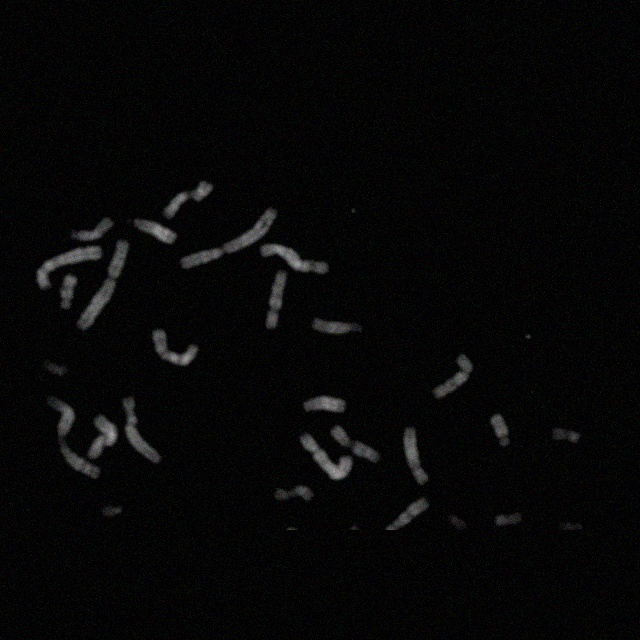chromosome: (180, 210, 280, 272), (41, 394, 101, 484), (76, 241, 130, 329), (36, 243, 100, 289), (124, 395, 164, 465), (300, 429, 352, 481), (162, 179, 218, 223), (260, 244, 330, 276), (330, 426, 380, 466), (150, 328, 200, 366), (430, 355, 472, 399), (88, 415, 120, 461), (402, 425, 426, 485), (133, 215, 179, 245), (384, 500, 430, 530), (314, 316, 364, 340), (73, 218, 117, 244), (272, 482, 314, 508), (268, 270, 286, 330), (302, 394, 348, 416), (489, 412, 511, 451), (58, 274, 78, 308), (496, 509, 524, 529), (553, 428, 581, 446)
